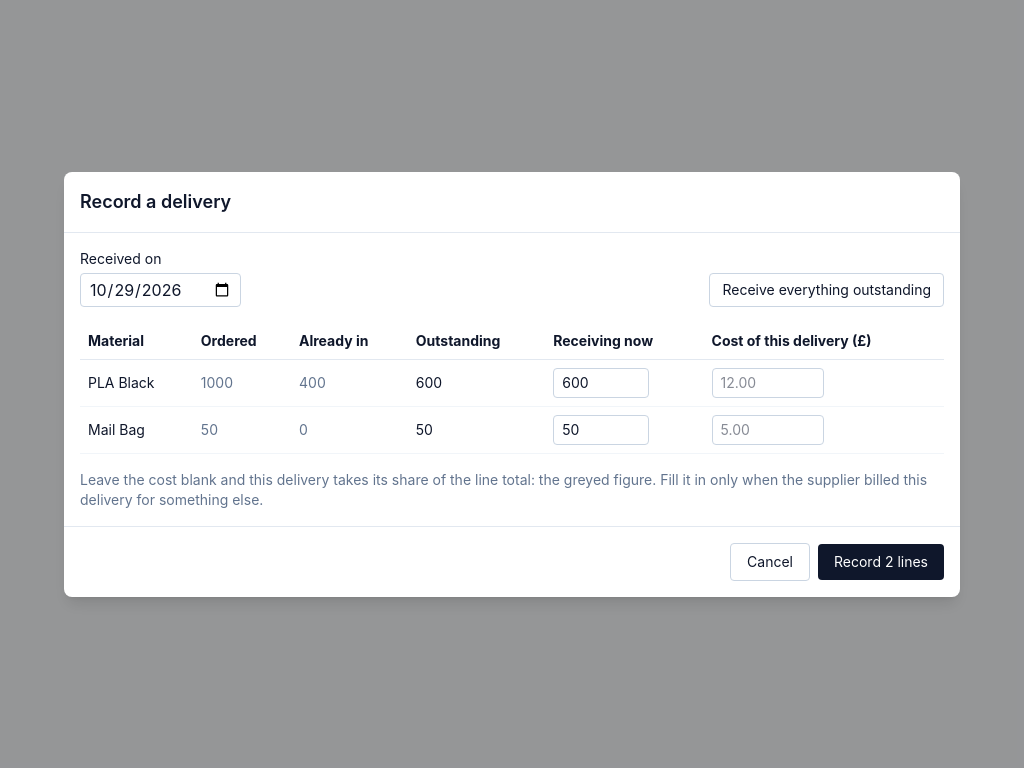
Test: will not submit more than is outstanding
Replace the text in the number field named "Receiving now for PLA Black" with "900": (601, 382) [553, 368, 649, 398]
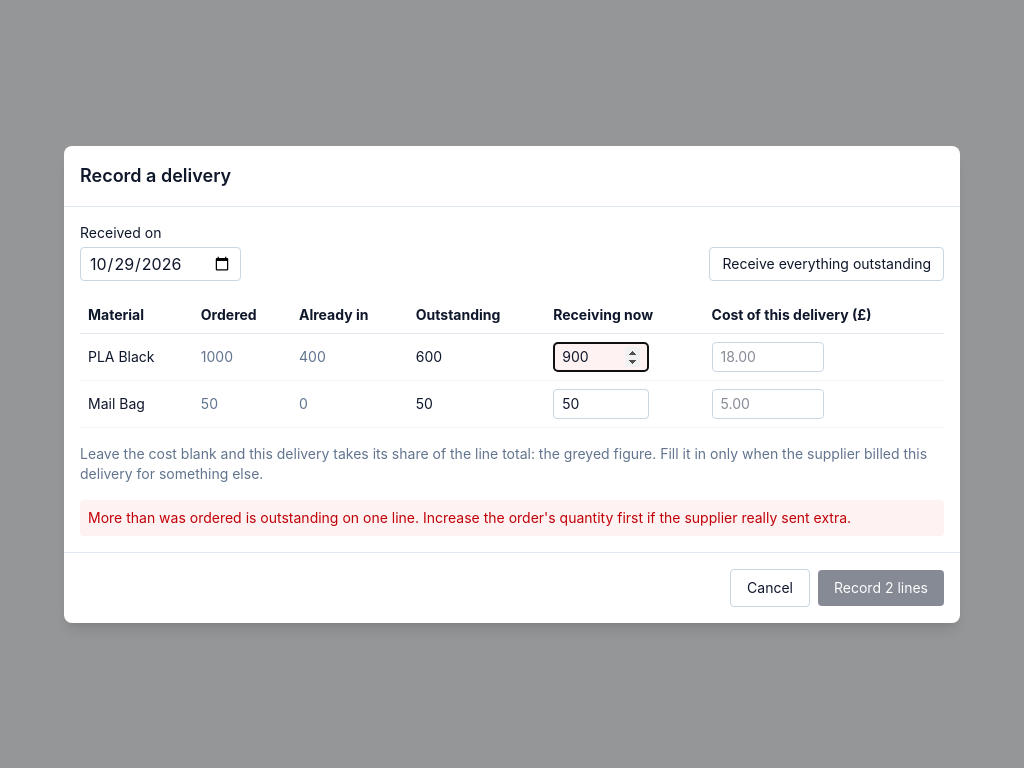
Result: the button "Record 2 lines" is disabled at [818, 570, 944, 606]
Result: the text "More than was ordered is outstanding" is shown at [88, 508, 359, 526]
